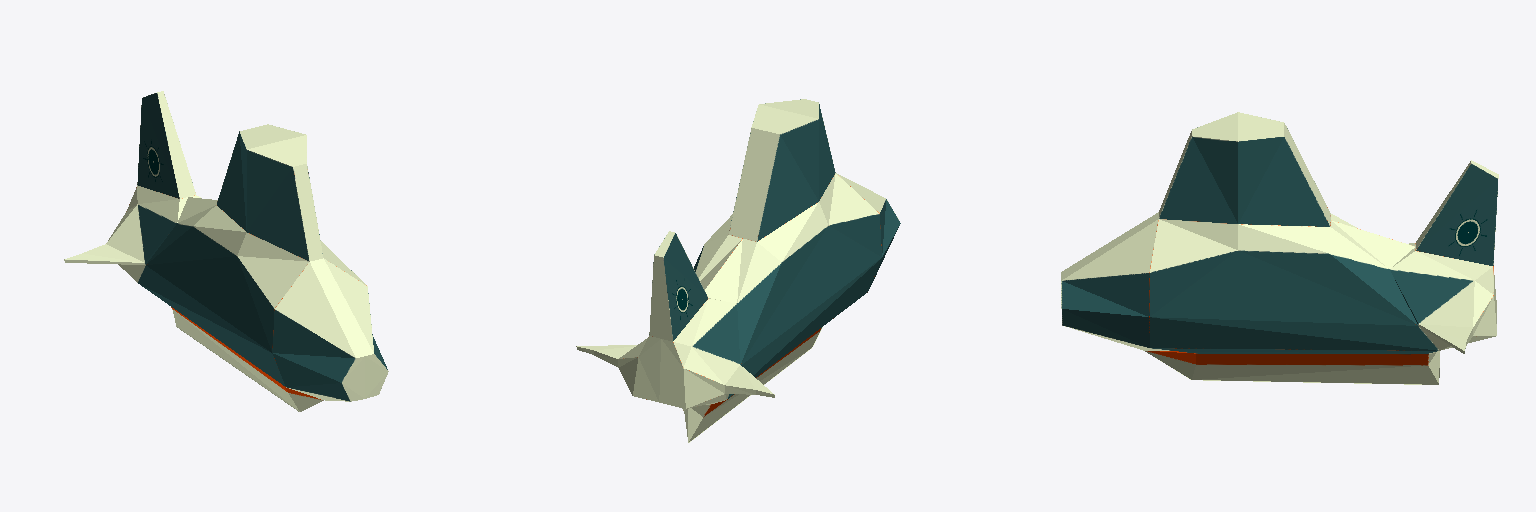
The picture shows the model from 3 angles: view 1: azimuth 30°, elevation 25°; view 2: azimuth 150°, elevation 25°; view 3: azimuth 270°, elevation 25°; orthographic projection.
Parts seen in each view (by area): view 1: 立方体; view 2: 立方体; view 3: 立方体.
Boxes of the visible parts, x1=… form: 立方体: x1=64, y1=91, x2=388, y2=411; 立方体: x1=576, y1=99, x2=900, y2=442; 立方体: x1=1061, y1=112, x2=1498, y2=384.
Size of the model in its own units: 1.36 by 1.68 by 2.58.
1 materials, 1 textured.